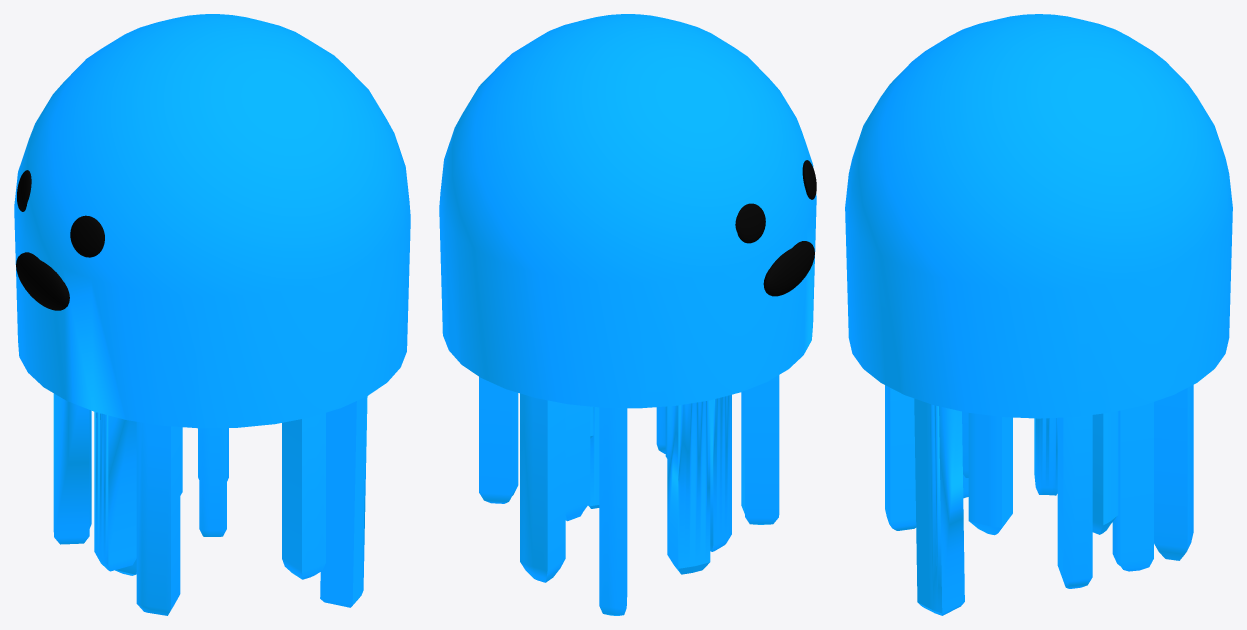
Rendered from JellyfishGhost.fbx.
3 views of the same model, side by side, from view 1: azimuth 30°, elevation 25°; view 2: azimuth 150°, elevation 25°; view 3: azimuth 270°, elevation 25° (orthographic). The views are drawn at different scales.
Visible parts, largest first — view 1: Jellyfish; view 2: Jellyfish; view 3: Jellyfish.
Part boxes in pixels (x1,y1,x2,y2): Jellyfish: (14,14,410,615); Jellyfish: (439,14,816,615); Jellyfish: (845,14,1232,615).
Size of the model in its own units: 204 by 315 by 200.
